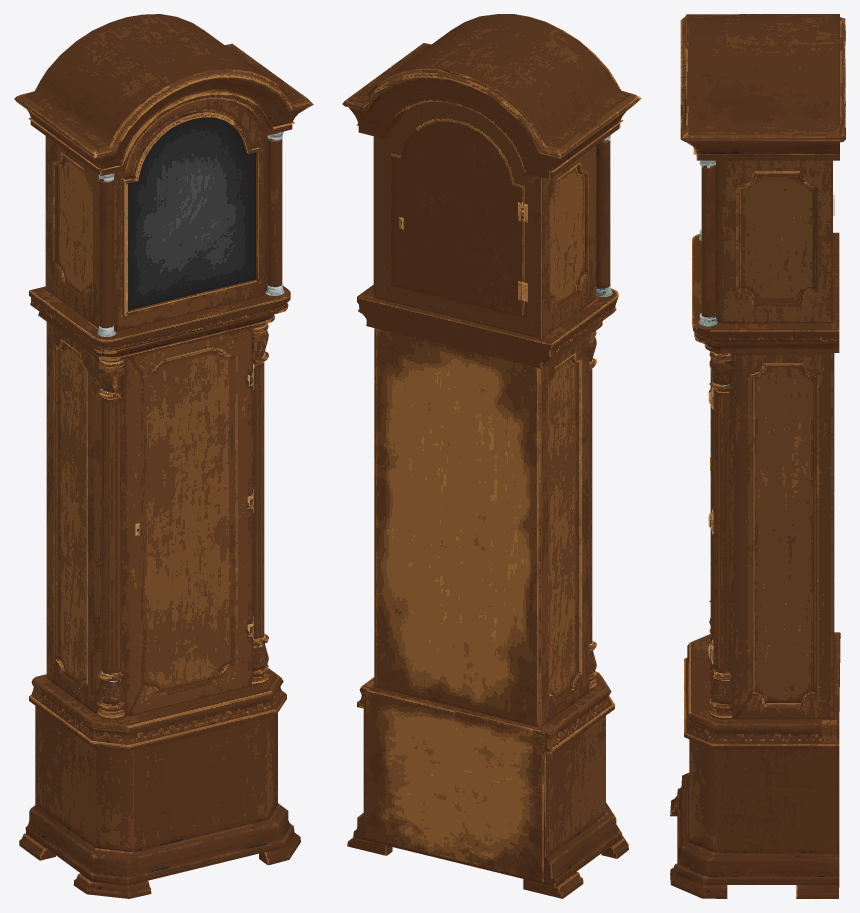
Rendered from vintage_grandfather_clock_01.glb.
The picture shows the model from 3 angles, left to right: view 1: azimuth 30°, elevation 25°; view 2: azimuth 150°, elevation 25°; view 3: azimuth 270°, elevation 25°; orthographic projection. The views are drawn at different scales.
Visible parts, largest first — view 1: mesh; view 2: mesh; view 3: mesh.
Boxes of the visible parts, x1,y1,x2,y2 form: mesh: (14,14,313,898); mesh: (342,14,641,898); mesh: (670,14,845,898).
Bounding box in the file's own units: 25.02 × 87.62 × 17.06.
1 material, 1 textured.
